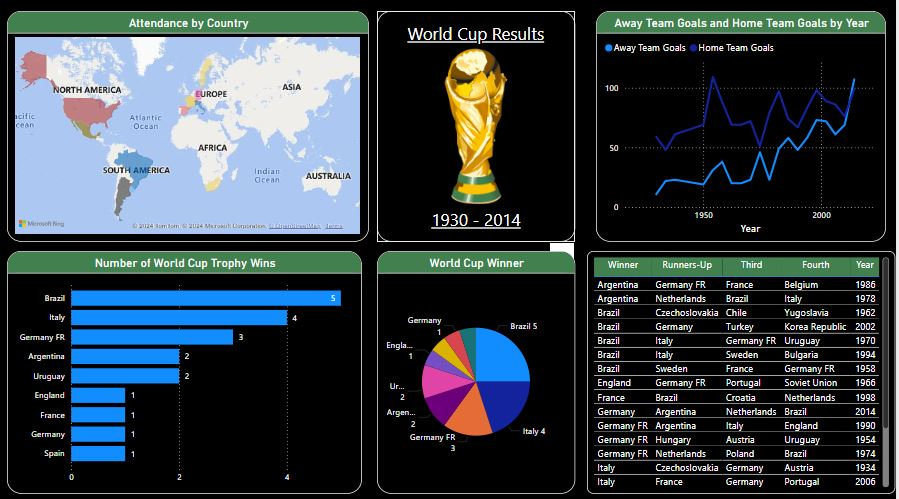

This screenshot's page, from the dashboard's own definition file:
{"tool":"powerbi","page":{"name":"Page 1","canvas":[1280,720],"ordinal":0},"visuals":[{"type":"image","box":[545.7,19.8,280.6,327.4],"z":0},{"type":"textbox","box":[583.9,29.8,218.3,42.5],"z":1000},{"type":"textbox","box":[595.3,293.4,181.4,43.9],"z":2000},{"type":"pieChart","title":"World Cup Winner ","fields":{"Category":["WorldCups.Winner"],"Y":["CountNonNull(WorldCups.Winner)"]},"box":[545.7,360,280.6,344.4],"z":3000},{"type":"barChart","title":"Number of World Cup Trophy Wins","fields":{"Category":["WorldCups.Winner"],"Y":["Count(WorldCups.Year)"]},"box":[21.3,360,503.1,344.4],"z":4000},{"type":"filledMap","fields":{"Category":["WorldCups.Country"]},"box":[21.3,19.8,513.1,327.4],"z":5000},{"type":"lineChart","fields":{"Y":["Sum(WorldCupMatches.Away Team Goals)","Sum(WorldCupMatches.Home Team Goals)"],"Category":["WorldCupMatches.Year"]},"box":[856.1,19.8,411,327.4],"z":6000},{"type":"tableEx","fields":{"Values":["WorldCups.Winner","WorldCups.Runners-Up","WorldCups.Third","WorldCups.Fourth","WorldCups.Year"]},"box":[843.3,360,436.5,344.4],"z":7000}]}

Visuals, with their boxes in screenshot pixels (x1, y1, x2, y2), scaled from the page's 1280x720 canvas onto the 899x499 screenshot:
image: Rect(383, 14, 580, 241)
textbox: Rect(410, 21, 563, 50)
textbox: Rect(418, 203, 546, 234)
"World Cup Winner " pieChart: Rect(383, 250, 580, 488)
"Number of World Cup Trophy Wins" barChart: Rect(15, 250, 368, 488)
filledMap - WorldCups.Country: Rect(15, 14, 375, 241)
lineChart - Sum(WorldCupMatches.Away Team Goals) x Sum(WorldCupMatches.Home Team Goals): Rect(601, 14, 890, 241)
tableEx - WorldCups.Winner x WorldCups.Runners-Up: Rect(592, 250, 898, 488)
